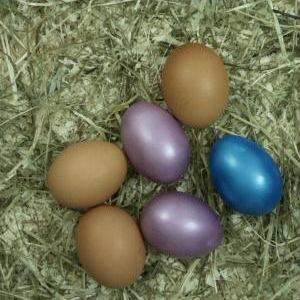egg: (74, 205, 147, 288), (211, 135, 284, 214), (162, 43, 229, 129), (121, 102, 191, 184), (47, 141, 128, 210), (140, 193, 225, 258)
